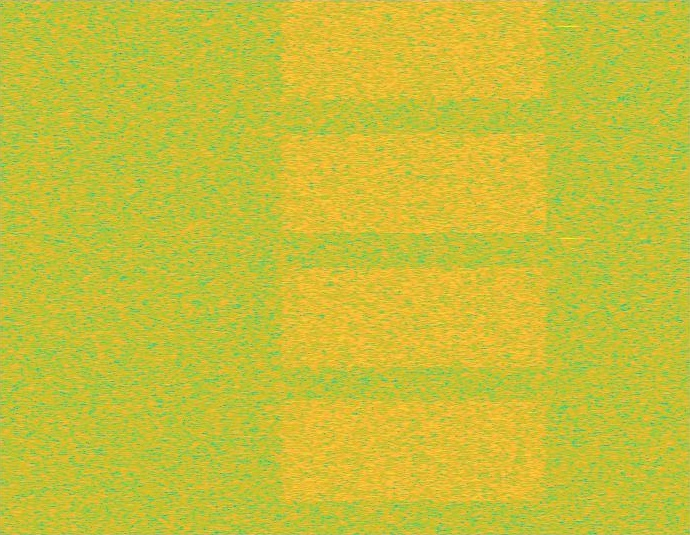5G: (276, 0, 552, 534)
Radar: (561, 0, 575, 534)
